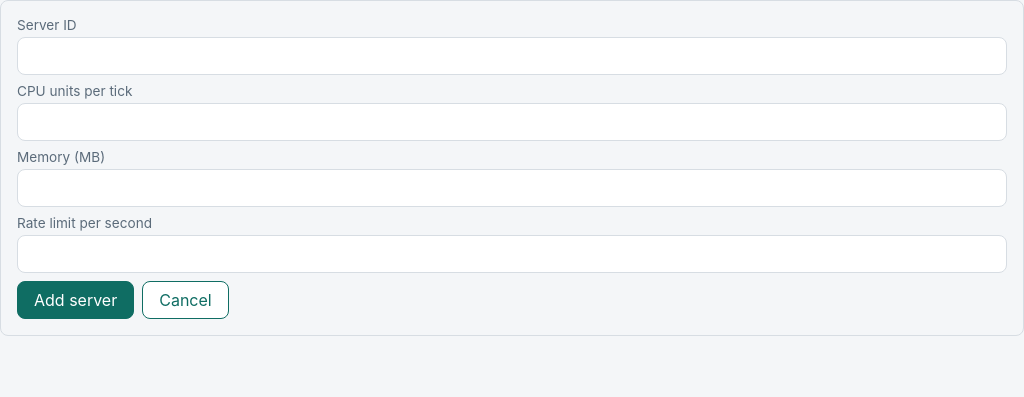
Test case: ServerForm › rejects a non-positive CPU value
Step 1. Type "s3" into the field labelled "Server ID" → (512,56), box [17,37,1007,75]
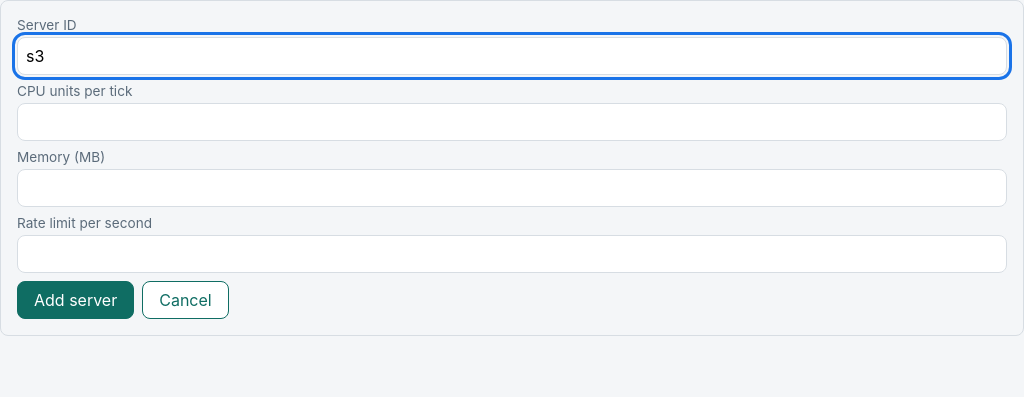
Step 2. Type "0" into the number field labelled "CPU units per tick" → (512,122), box [17,103,1007,141]
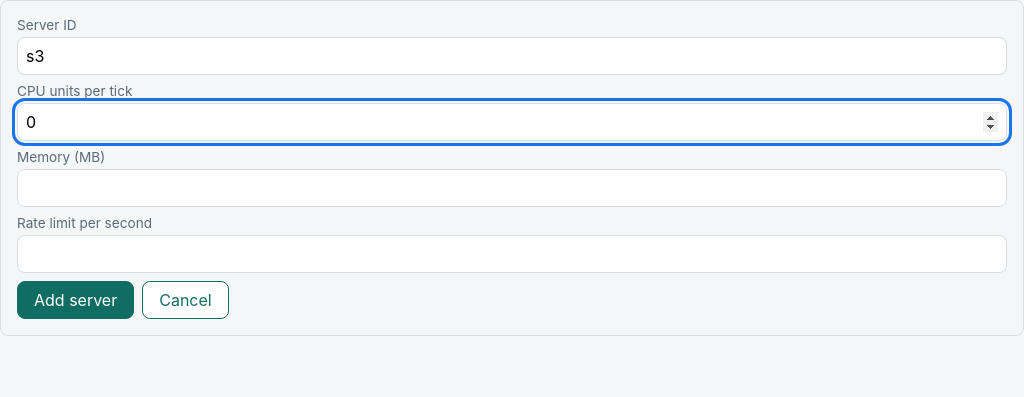
Step 3. Type "10" into the number field labelled "Memory (MB)" → (512,188), box [17,169,1007,207]
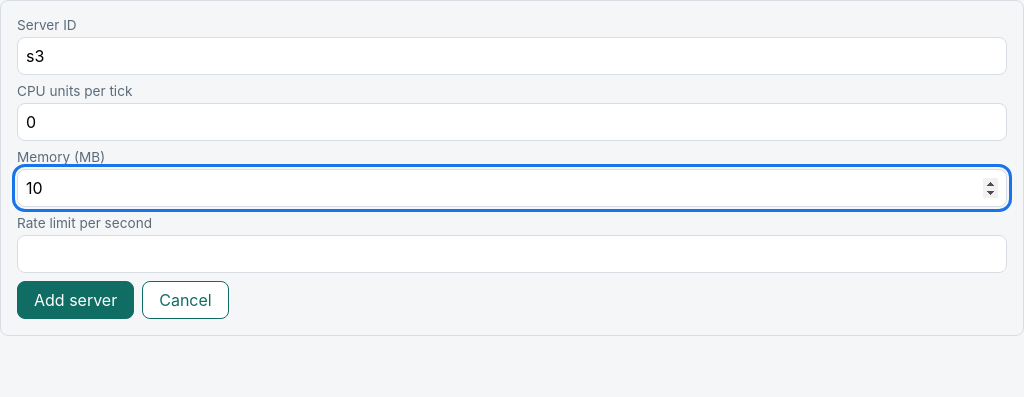
Step 4. Type "1" into the number field labelled "Rate limit per second" → (512,254), box [17,235,1007,273]
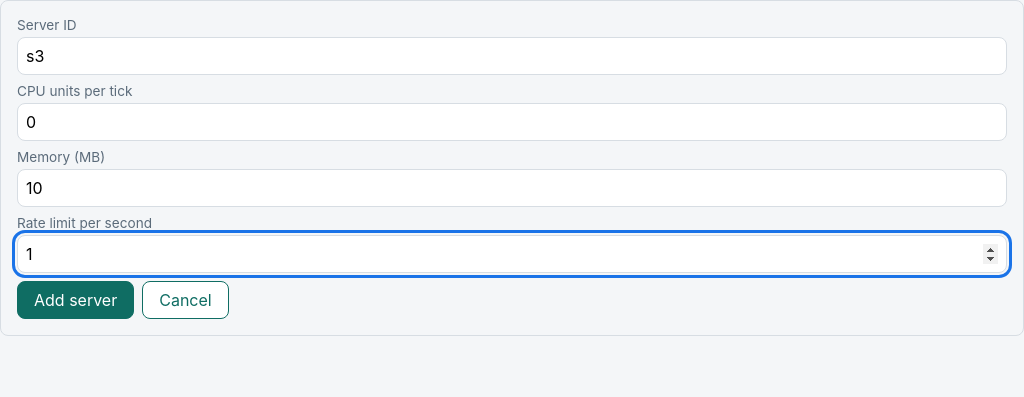
Step 5. Click the button "Add server" → (76,300), box [17,281,134,319]
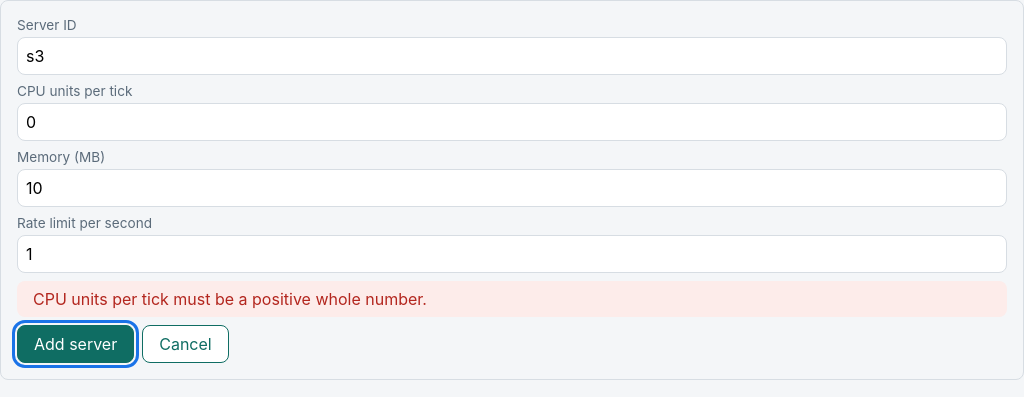
Check: the message shows "positive whole number", box [33,289,427,309]
